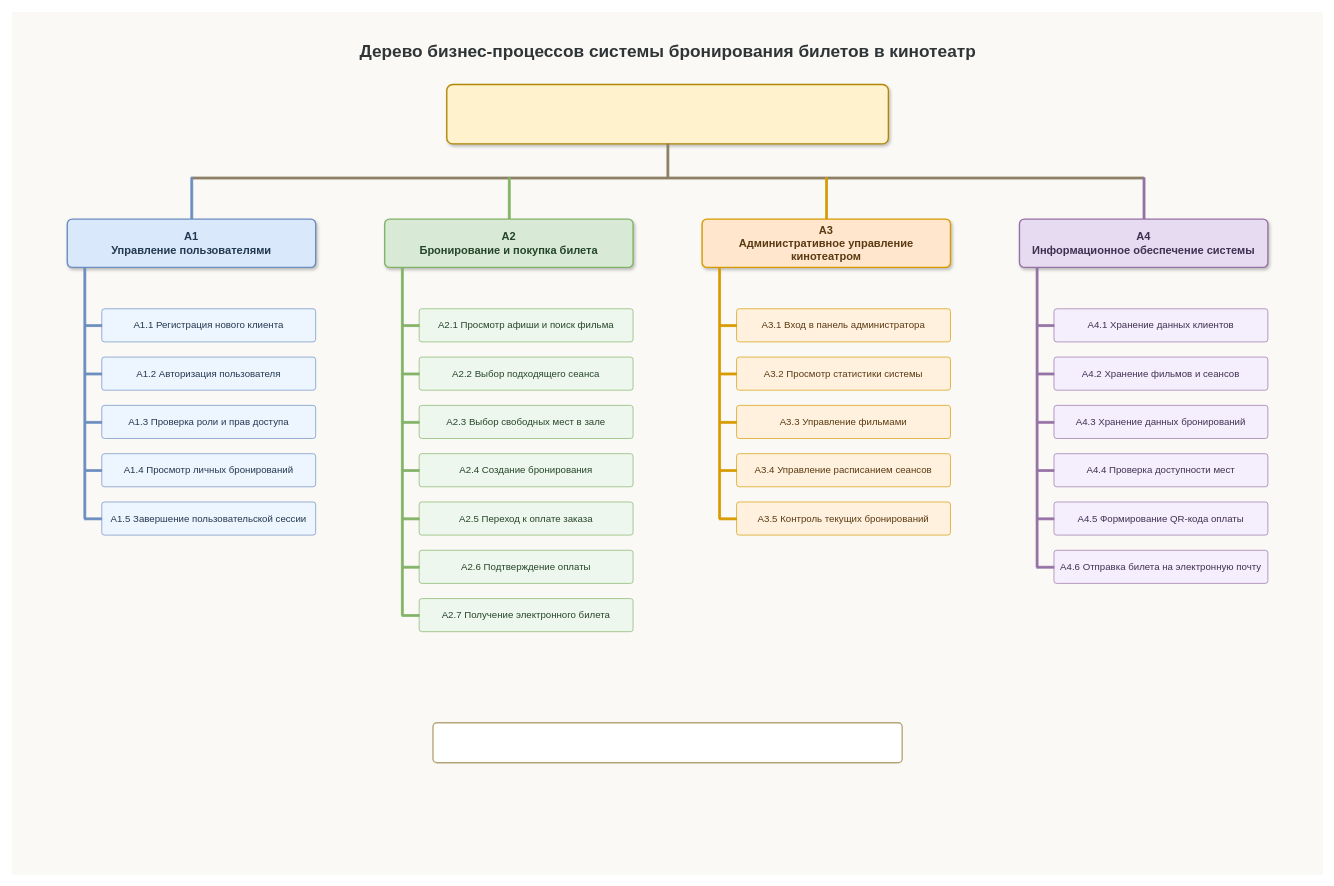
The diagram is 1334 pixels wide and 886 high, and some of its shapes have lost their labels. Each missing label, with the centre of its shape:
"A0 Управление системой онлайн-бронирования билетов в кинотеатр" goes at (668,115).
"Результат: оформленное бронирование и электронный билет для клиента" goes at (667,742).
